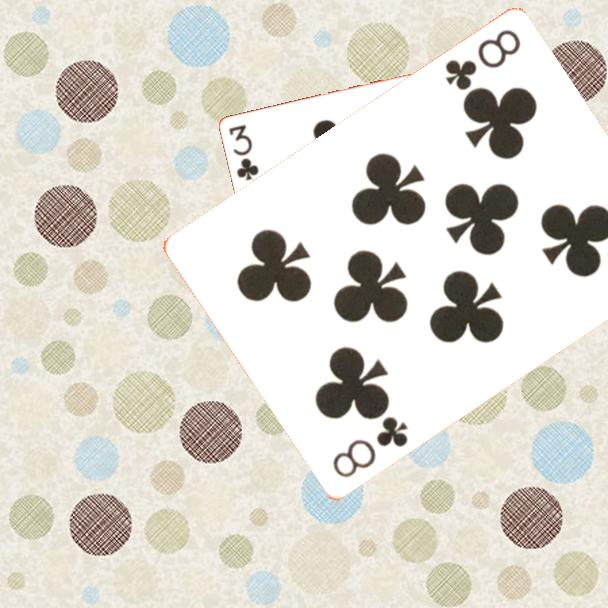c03: (226, 121, 262, 184)
c08: (328, 413, 411, 482), (441, 26, 524, 95)
